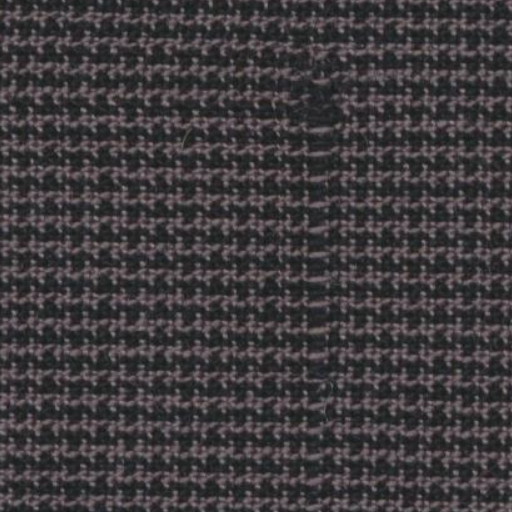DaiSha: (301, 14, 344, 459)
